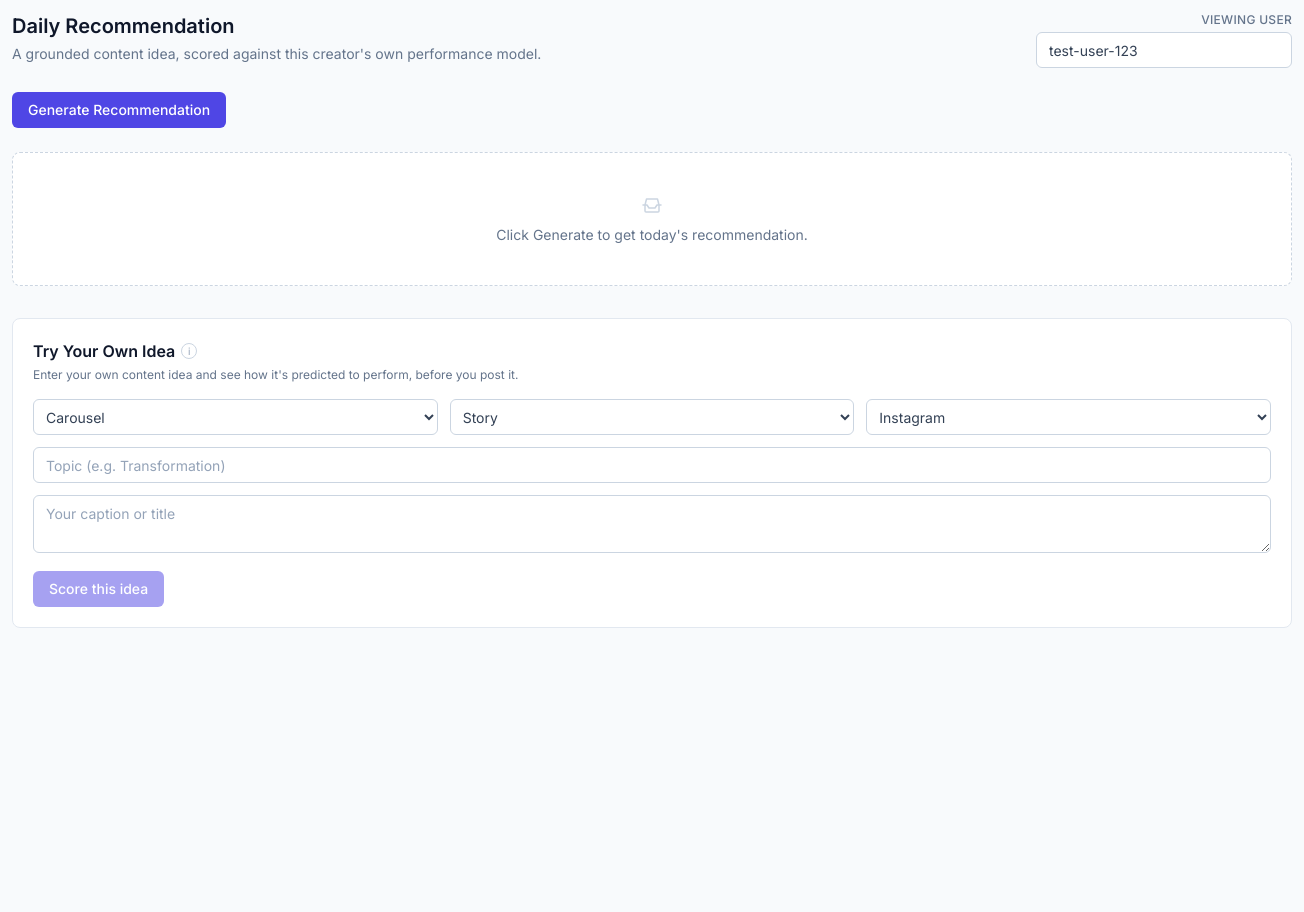
Scenario: generates a recommendation and marks it dismissed
Click the button "Generate Recommendation" at (119, 110), box [12,92,226,128]
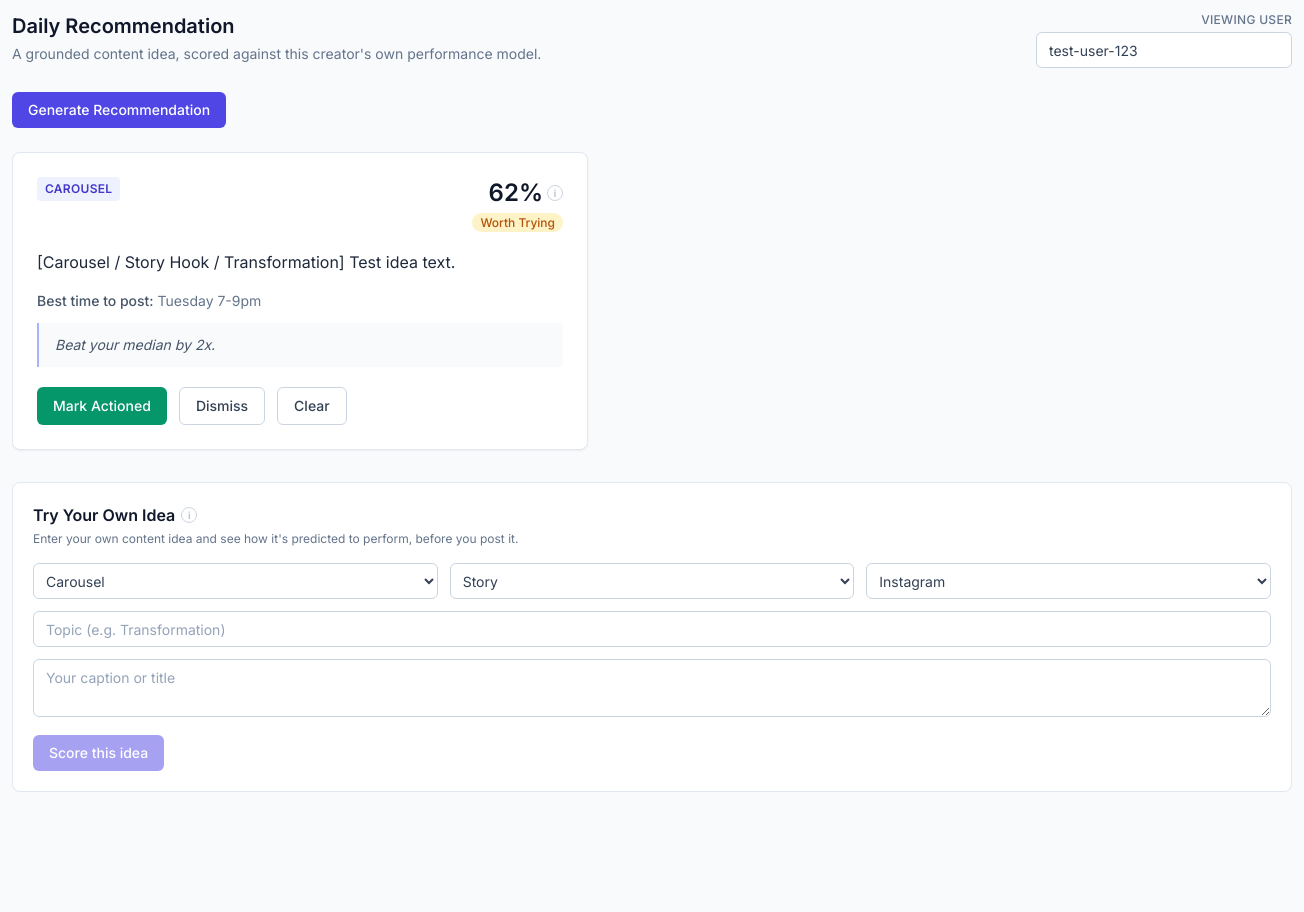
Expected: the text "[Carousel / Story Hook / Transformation] Test idea text." is shown, [37,252,455,272]
Click the button "Dismiss" at (222, 406), box [179,387,265,425]
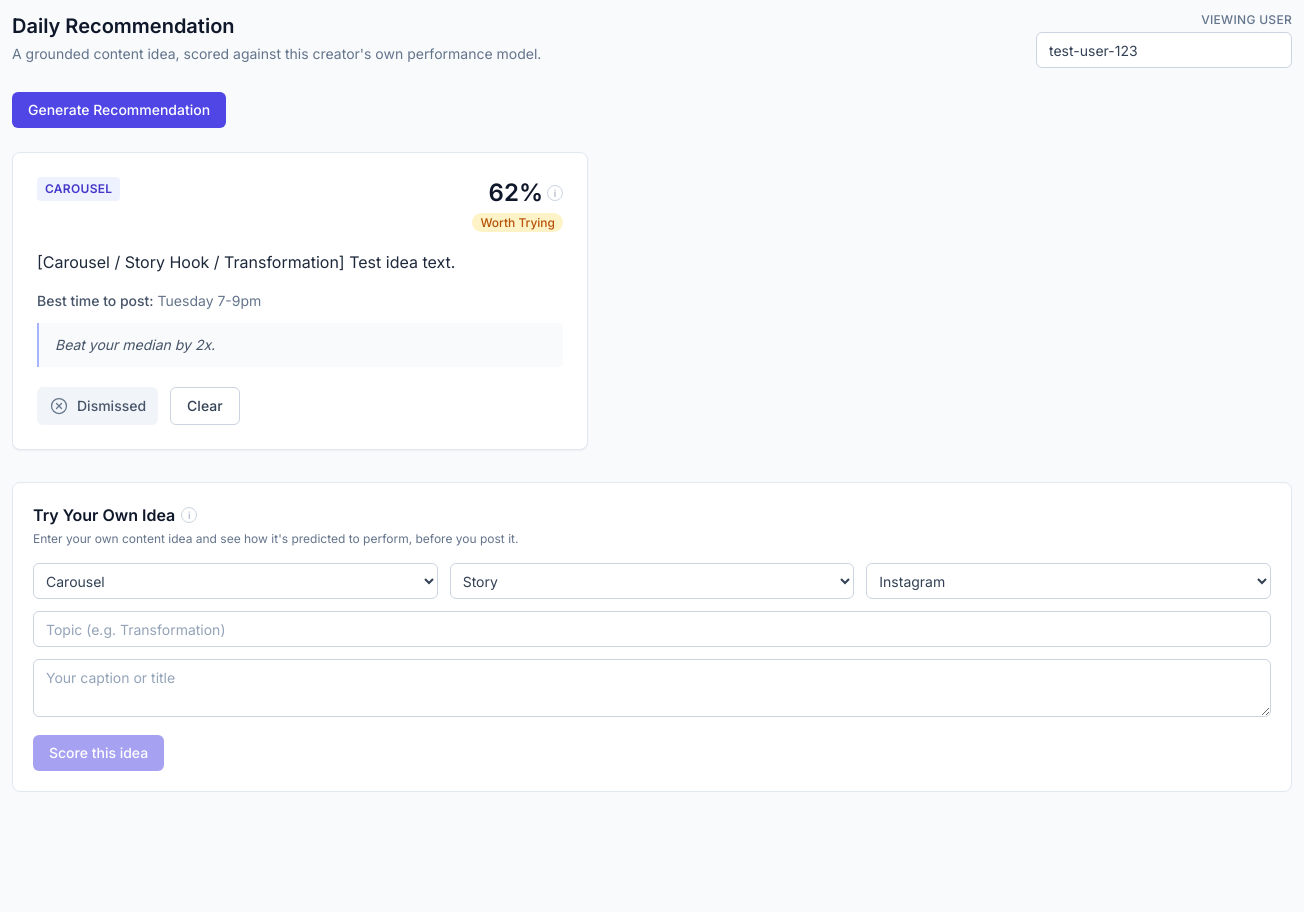
Expected: the text "Dismissed" is shown, [37,387,158,425]
